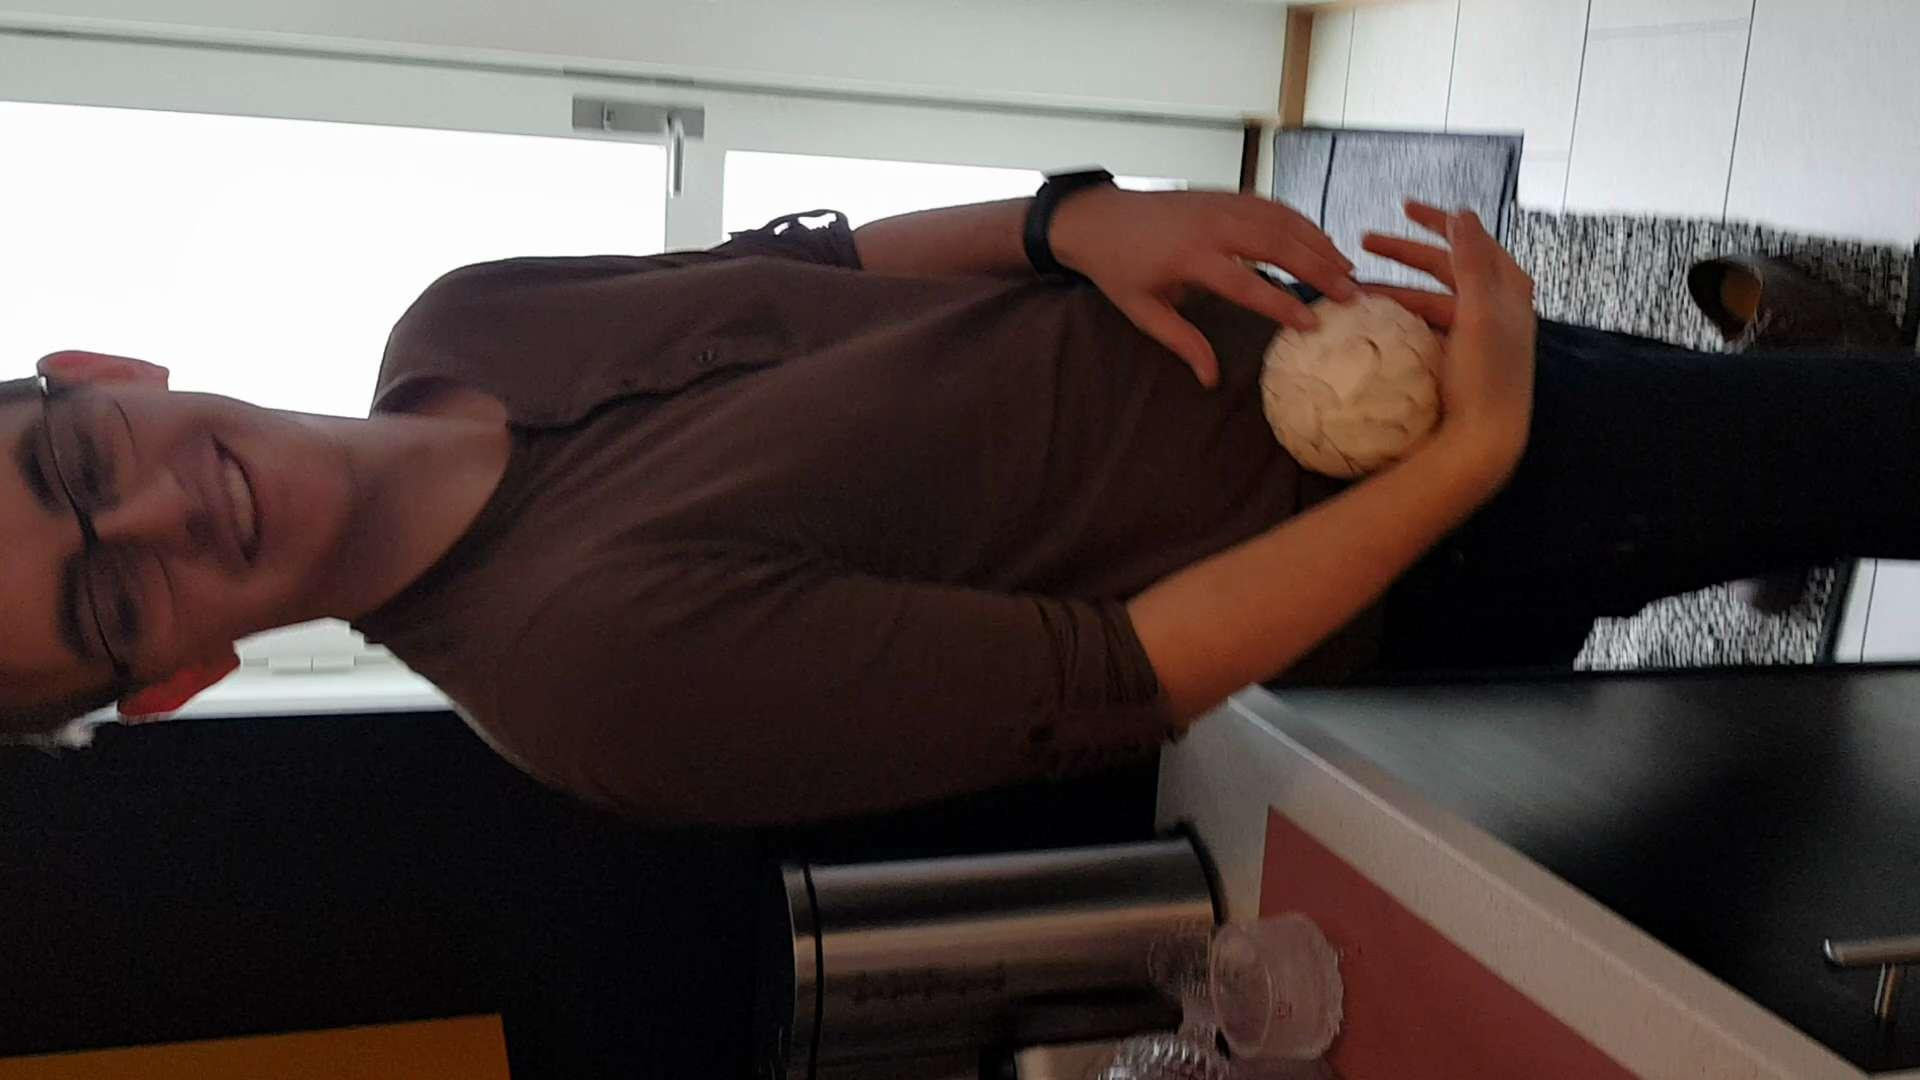Sphere: (1261, 285, 1452, 483)
